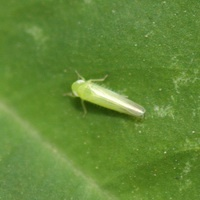insect: (66, 71, 144, 117)
